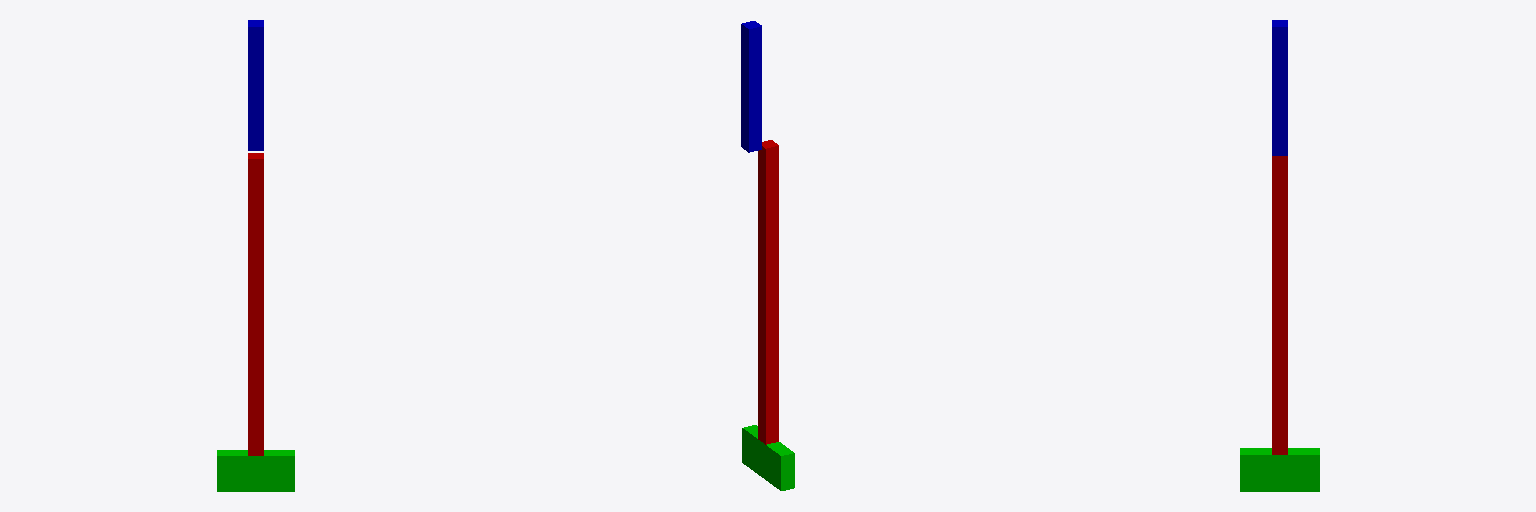
The robot description file, URDF, robot "Airbotwith2dofarm":
<?xml version="1.0" ?>
<!-- =================================================================================== -->
<!-- |    This document was autogenerated by xacro from airbot5.xacro                  | -->
<!-- |    EDITING THIS FILE BY HAND IS NOT RECOMMENDED                                 | -->
<!-- =================================================================================== -->
<robot name="Airbotwith2dofarm" xmlns:xacro="http://www.ros.org/wiki/xacro">
  <!-- Constants -->
  <!--xacro:property name="pi" value="3.1415926535897931" /-->
  <!-- Arm base wrt Quad -->
  <!-- Arm Lengths -->
  <!--Structural Properties-->
  <link name="baselink"/>
  <link name="airbase">
    <visual>
      <origin rpy="0 0 0" xyz="0.0 0.0 0.0"/>
      <geometry>
        <mesh filename="package://gcop_urdf/meshes/quadrotor_base.dae"/>
        <!--box size="0.44 0.44 0.1632"/-->
      </geometry>
      <material name="red">
        <color rgba="0.8 0 0 1"/>
      </material>
    </visual>
    <inertial>
      <mass value="1.4"/>
      <inertia ixx="0.0256939946667" ixy="0.0" ixz="0.0" iyy="0.0256939946667" iyz="0.0" izz="0.0451733333333"/>
      <!--mass value="${m0}"/>
      <inertia ixx="${m0*4.32e-3}" ixy="0.0" ixz="0.0" iyy="${m0*4.32e-3}" iyz="0.0" izz="${m0*8.41e-3}"/-->
    </inertial>
  </link>
  <link name="link1">
    <visual>
      <origin rpy="0 0 0" xyz="0.0 0.0 -0.0875"/>
      <material name="blue">
        <color rgba="0 0 0.8 1"/>
      </material>
      <geometry>
        <box size="0.02 0.02 0.175"/>
      </geometry>
    </visual>
    <inertial>
      <origin rpy="0 0 0" xyz="0.0 0.0 0.0"/>
      <mass value="0.1"/>
      <inertia ixx="4.16666666667e-05" ixy="0.0" ixz="0.0" iyy="4.16666666667e-05" iyz="0.0" izz="4.16666666667e-05"/>
    </inertial>
  </link>
  <link name="link2">
    <visual>
      <origin rpy="0 0 0" xyz="0.0 0.0 -0.21"/>
      <geometry>
        <box size="0.02 0.02 0.42"/>
      </geometry>
      <material name="red">
        <color rgba="0.8 0 0 1"/>
      </material>
    </visual>
    <inertial>
      <origin rpy="0 0 0" xyz="0.0 0.0 0.0"/>
      <mass value="0.1"/>
      <inertia ixx="4.16666666667e-05" ixy="0.0" ixz="0.0" iyy="4.16666666667e-05" iyz="0.0" izz="4.16666666667e-05"/>
    </inertial>
  </link>
  <link name="link3">
    <visual>
      <origin rpy="0 0 0" xyz="0.0 0.0 -0.025"/>
      <geometry>
        <box size="0.02 0.1 0.05"/>
      </geometry>
      <material name="green">
        <color rgba="0 0.8 0 1"/>
      </material>
    </visual>
    <inertial>
      <origin rpy="0 0 0" xyz="0.0 0.0 -0.025"/>
      <mass value="0.03"/>
      <inertia ixx="7.25e-06" ixy="0.0" ixz="0.0" iyy="7.25e-06" iyz="0.0" izz="2e-06"/>
    </inertial>
  </link>
  <!-- Joints -->
  <joint name="basetoairbase" type="fixed">
    <parent link="baselink"/>
    <child link="airbase"/>
    <origin rpy="0 0 0" xyz="0 0 0"/>
  </joint>
  <joint name="airbasetolink1" type="revolute">
    <parent link="airbase"/>
    <child link="link1"/>
    <origin rpy="0 0 0" xyz="0.0732 0 -0.1"/>
    <axis xyz="0 -1 0"/>
    <limit effort="30" lower="-0.26179938765" upper="1.83259571355" velocity="10.0"/>
  </joint>
  <joint name="link1tolink2" type="revolute">
    <parent link="link1"/>
    <child link="link2"/>
    <origin rpy="0 0 0" xyz="-0.025 0 -0.175"/>
    <axis xyz="0 -1 0"/>
    <limit effort="30" lower="-3.1415926518" upper="1.5707963259" velocity="10.0"/>
  </joint>
  <joint name="link2tolink3" type="fixed">
    <parent link="link2"/>
    <child link="link3"/>
    <origin rpy="0 0 0" xyz="0 0 -0.42"/>
  </joint>
</robot>

--- What the picture shows (computed from the rendered views, not written in the file) ---
3 views of the same robot in one strip: view 1: azimuth 90°, elevation 25°; view 2: azimuth 210°, elevation 25°; view 3: azimuth 270°, elevation 25° (orthographic).
Model Airbotwith2dofarm with 5 links and 4 joints (2 revolute, 2 fixed), rooted at baselink, posed all joints at 0.
Visible links, largest first — view 1: link2, link3, link1; view 2: link2, link1, link3; view 3: link2, link3, link1.
Link boxes in pixels (x1,y1,x2,y2): link2: (248, 153, 263, 455); link3: (217, 450, 294, 491); link1: (248, 20, 263, 150); link2: (758, 140, 778, 444); link1: (741, 21, 761, 152); link3: (742, 425, 794, 490); link2: (1272, 156, 1287, 454); link3: (1240, 448, 1319, 491); link1: (1272, 20, 1287, 155).
Bounding box of the posed robot: 0.045 × 0.1 × 0.645 m (x, y, z).
Meshes: 1 distinct files referenced, 0 mesh visuals loaded (none loaded); not drawn: 1 (reference not matched to a file when rendering).